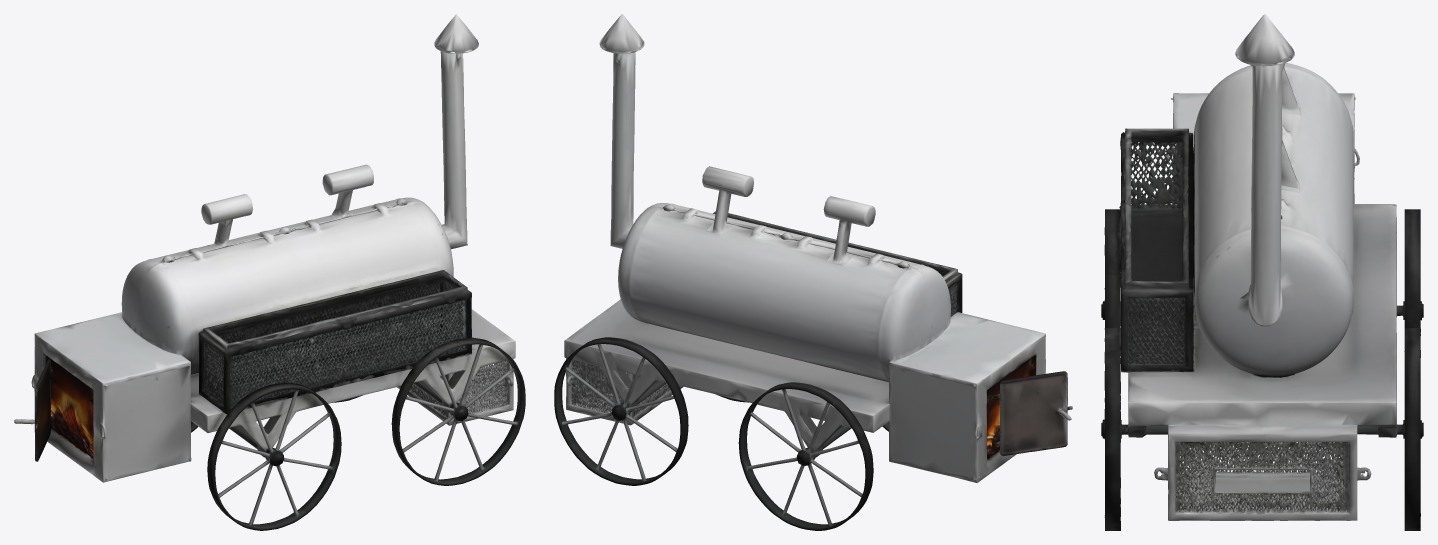
The model's file is bbqsmith_smoker_wagon.glb.
3 renders of one model, left to right at view 1: azimuth 30°, elevation 25°; view 2: azimuth 150°, elevation 25°; view 3: azimuth 270°, elevation 25°, orthographic. The views are drawn at different scales.
Parts seen in each view (by area): view 1: tripo_part_2, tripo_part_0, tripo_part_4, tripo_part_3, tripo_part_9, tripo_part_8, tripo_part_7, tripo_part_10, tripo_part_1, tripo_part_14, tripo_part_13, tripo_part_11; view 2: tripo_part_2, tripo_part_4, tripo_part_3, tripo_part_5, tripo_part_6, tripo_part_9, tripo_part_11, tripo_part_1, tripo_part_13, tripo_part_14, tripo_part_0, tripo_part_12 (+1 smaller); view 3: tripo_part_2, tripo_part_3, tripo_part_1, tripo_part_0, tripo_part_9, tripo_part_5, tripo_part_7, tripo_part_6, tripo_part_8, tripo_part_4, tripo_part_14, tripo_part_13.
Part boxes in pixels (x1,y1,x2,y2): tripo_part_2: (121, 197, 453, 374); tripo_part_0: (198, 270, 472, 414); tripo_part_4: (31, 312, 191, 482); tripo_part_3: (190, 309, 515, 457); tripo_part_9: (434, 14, 478, 249); tripo_part_8: (207, 382, 341, 530); tripo_part_7: (391, 337, 525, 485); tripo_part_10: (50, 359, 93, 459); tripo_part_1: (397, 358, 513, 425); tripo_part_14: (322, 164, 373, 218); tripo_part_13: (201, 194, 252, 247); tripo_part_11: (14, 359, 52, 461); tripo_part_2: (618, 203, 950, 381); tripo_part_4: (889, 312, 1045, 482); tripo_part_3: (564, 299, 889, 448); tripo_part_5: (554, 337, 688, 485); tripo_part_6: (738, 382, 873, 530); tripo_part_9: (599, 14, 644, 248); tripo_part_11: (992, 371, 1072, 455); tripo_part_1: (566, 358, 683, 425); tripo_part_13: (823, 196, 875, 265); tripo_part_14: (702, 166, 753, 234); tripo_part_0: (713, 211, 962, 316); tripo_part_12: (785, 398, 843, 457); tripo_part_2: (1193, 63, 1353, 377); tripo_part_3: (1122, 204, 1396, 437); tripo_part_1: (1154, 425, 1371, 520); tripo_part_0: (1119, 128, 1194, 372); tripo_part_9: (1235, 14, 1294, 326); tripo_part_5: (1378, 328, 1423, 530); tripo_part_7: (1101, 328, 1127, 530); tripo_part_6: (1402, 209, 1423, 351); tripo_part_8: (1101, 209, 1121, 409); tripo_part_4: (1166, 93, 1359, 204); tripo_part_14: (1281, 128, 1299, 193); tripo_part_13: (1282, 67, 1301, 117).
Size of the model in its own units: 0.9808 by 0.8283 by 0.4456.
1 material, 1 textured.
